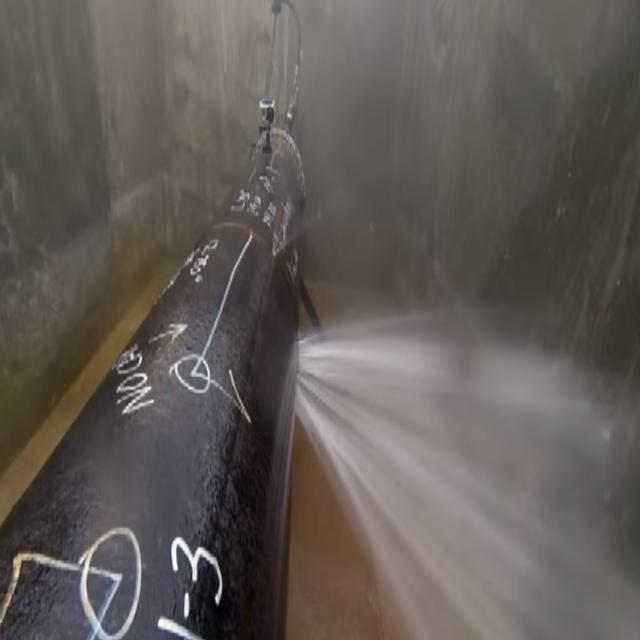leak: (296, 314, 640, 637)
